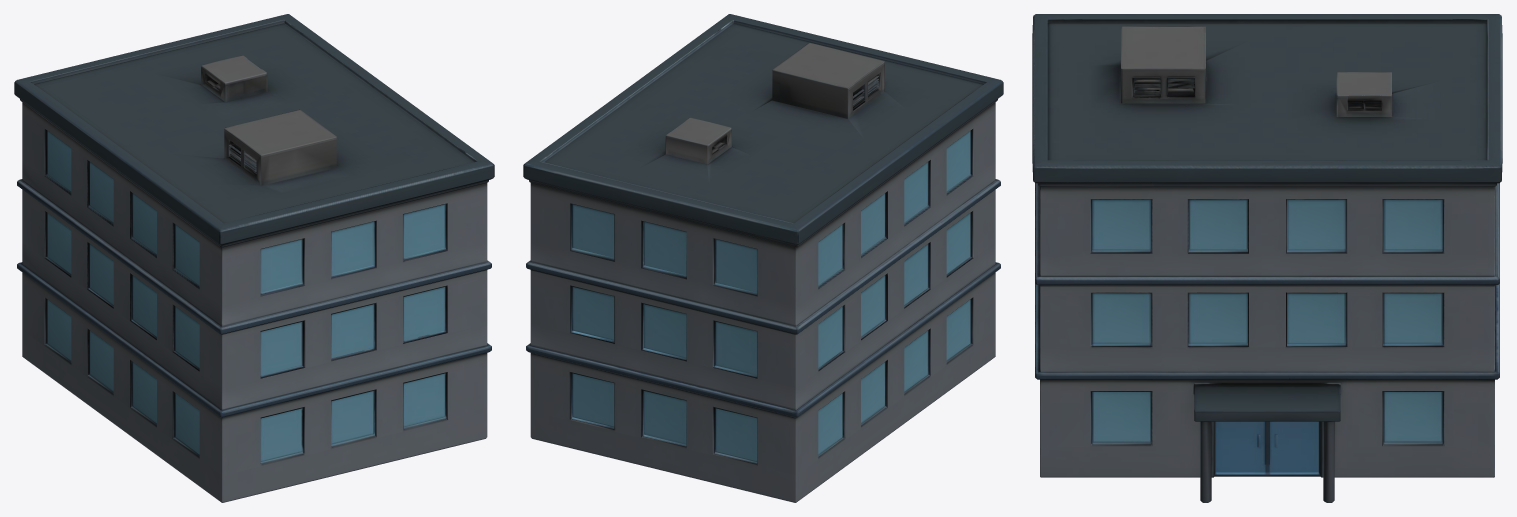
Rendered from office-apartment-three-blender-cleanup.glb.
The picture shows the model from 3 angles, left to right: view 1: azimuth 30°, elevation 25°; view 2: azimuth 150°, elevation 25°; view 3: azimuth 270°, elevation 25°; orthographic projection. The views are drawn at different scales.
Parts seen in each view (by area): view 1: tripo_node_da878c89-f8e0-4aef-8efa-ad18b47edced; view 2: tripo_node_da878c89-f8e0-4aef-8efa-ad18b47edced; view 3: tripo_node_da878c89-f8e0-4aef-8efa-ad18b47edced.
Part boxes in pixels (<box>): tripo_node_da878c89-f8e0-4aef-8efa-ad18b47edced: <box>14,14,494,502</box>; tripo_node_da878c89-f8e0-4aef-8efa-ad18b47edced: <box>523,14,1003,502</box>; tripo_node_da878c89-f8e0-4aef-8efa-ad18b47edced: <box>1032,14,1502,502</box>.
Size of the model in its own units: 0.863 by 0.7826 by 0.9648.
1 material, 1 textured.
